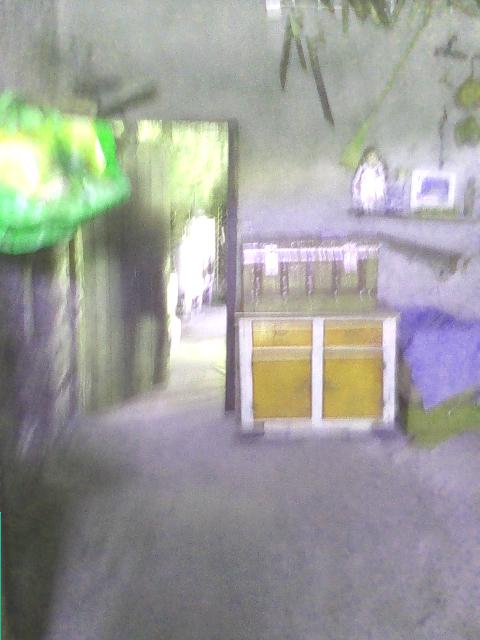semi_door: (71, 113, 247, 414)
